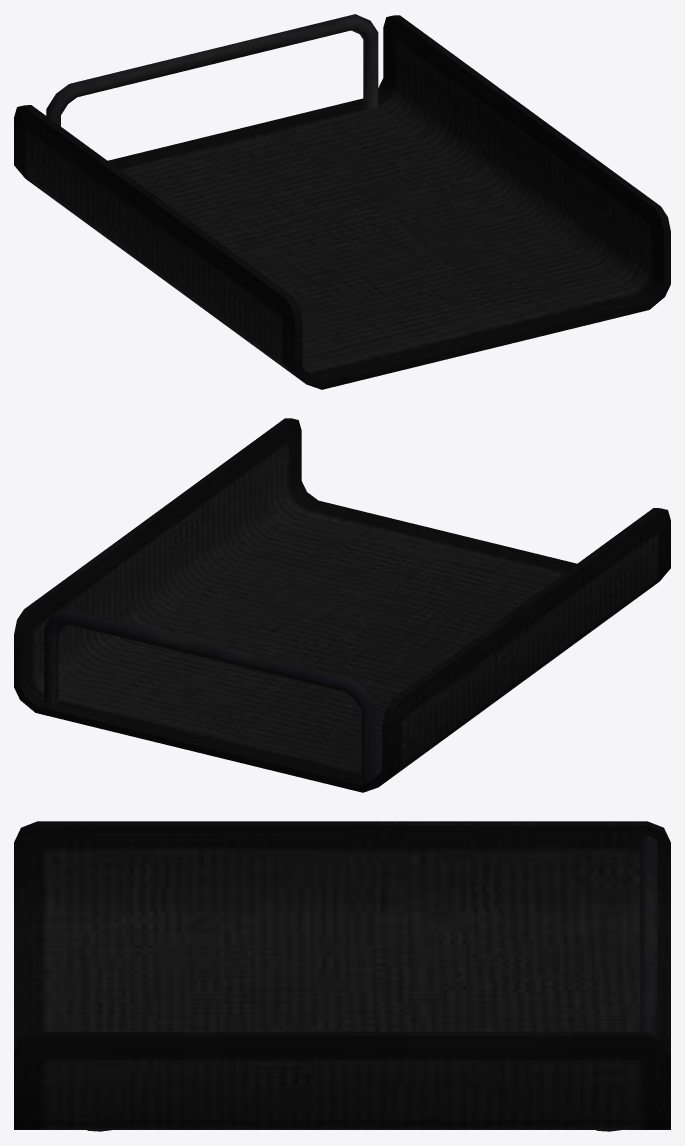
Rendered from paper_rack-1.FBX.
3 views of the same model, one above another, from view 1: azimuth 30°, elevation 25°; view 2: azimuth 150°, elevation 25°; view 3: azimuth 270°, elevation 25° (orthographic). The views are drawn at different scales.
Visible parts, largest first — view 1: Line01; view 2: Line01; view 3: Line01.
Part boxes in pixels (x1=…): Line01: x1=14, y1=14, x2=670, y2=389; Line01: x1=14, y1=418, x2=670, y2=792; Line01: x1=14, y1=821, x2=670, y2=1131.
Size of the model in its own units: 10.85 by 3.09 by 14.05.
